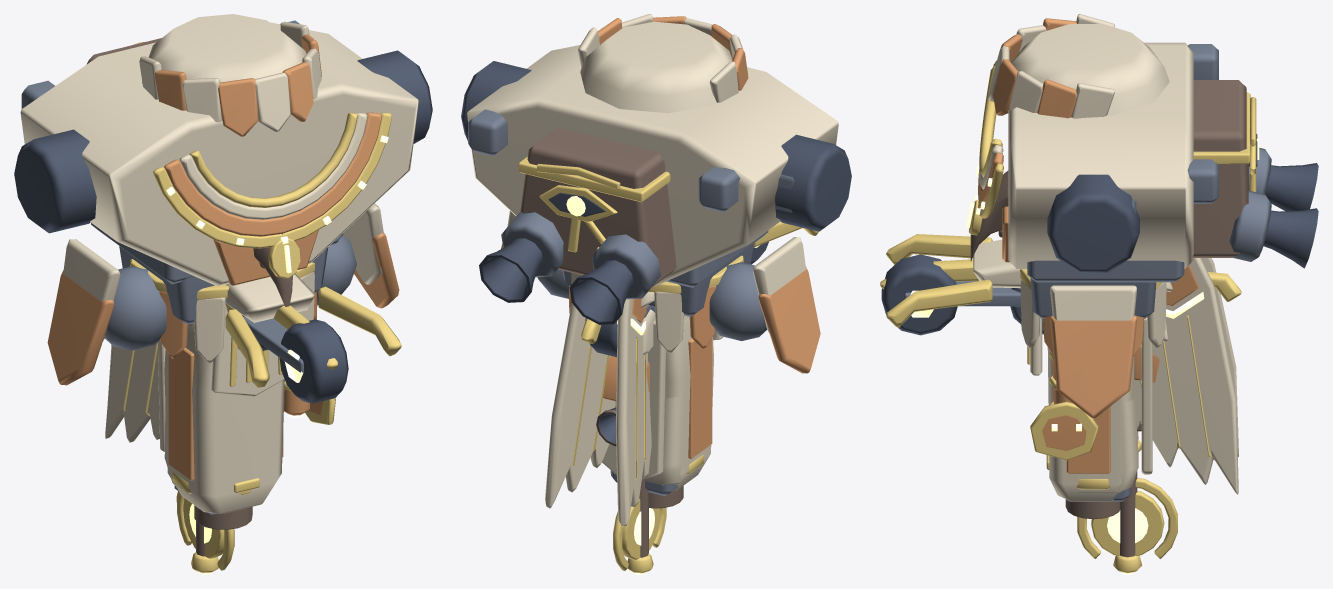
The model's file is horus.glb.
3 renders of one model, left to right at view 1: azimuth 30°, elevation 25°; view 2: azimuth 150°, elevation 25°; view 3: azimuth 270°, elevation 25°, orthographic. The views are drawn at different scales.
Visible parts, largest first — view 1: chest/P, hipL/P, chest/S, chest/D, hips/K, chest/T, hips/S, hips/P, ankleL/T, wingR/P, ankleL/D, hipR/S (+12 smaller); view 2: chest/P, chest/D, chest/F, chest/K, wingL/P, wingR/P, hips/K, hipL/P, hips/S, chest/T, hipR/S, kneeL/P (+14 smaller); view 3: chest/P, wingL/P, chest/D, chest/K, chest/F, hips/S, ankleL/T, hipL/P, wrR/T, hips/P, ankleL/D, chest/S (+16 smaller).
Boxes of the visible parts, bbox=[...] form: chest/P: bbox=[20, 14, 418, 286]; hipL/P: bbox=[157, 323, 284, 513]; chest/S: bbox=[154, 34, 381, 285]; chest/D: bbox=[14, 50, 432, 233]; hips/K: bbox=[105, 235, 356, 350]; chest/T: bbox=[132, 42, 391, 278]; hips/S: bbox=[47, 232, 399, 385]; hips/P: bbox=[63, 203, 383, 396]; ankleL/T: bbox=[225, 286, 401, 387]; wingR/P: bbox=[105, 345, 159, 442]; ankleL/D: bbox=[238, 315, 348, 403]; hipR/S: bbox=[168, 347, 194, 480]; chest/P: bbox=[467, 14, 838, 286]; chest/D: bbox=[461, 61, 851, 324]; chest/F: bbox=[520, 128, 676, 286]; chest/K: bbox=[468, 109, 794, 299]; wingL/P: bbox=[545, 275, 615, 508]; wingR/P: bbox=[616, 299, 651, 526]; hips/K: bbox=[537, 243, 767, 340]; hipL/P: bbox=[602, 317, 713, 490]; hips/S: bbox=[501, 243, 820, 373]; chest/T: bbox=[518, 156, 670, 252]; hipR/S: bbox=[688, 338, 712, 458]; kneeL/P: bbox=[613, 309, 699, 485]; chest/P: bbox=[979, 14, 1193, 268]; wingL/P: bbox=[1134, 258, 1238, 494]; chest/D: bbox=[1047, 134, 1318, 272]; chest/K: bbox=[1027, 44, 1271, 282]; chest/F: bbox=[1192, 80, 1249, 257]; hips/S: bbox=[1050, 315, 1136, 418]; ankleL/T: bbox=[880, 234, 1241, 327]; hipL/P: bbox=[1047, 317, 1152, 501]; wrR/T: bbox=[1077, 439, 1177, 573]; hips/P: bbox=[1030, 285, 1136, 375]; ankleL/D: bbox=[881, 254, 1043, 335]; chest/S: bbox=[978, 18, 1077, 262].
Size of the model in its own units: 3.44 by 4.76 by 3.6.
